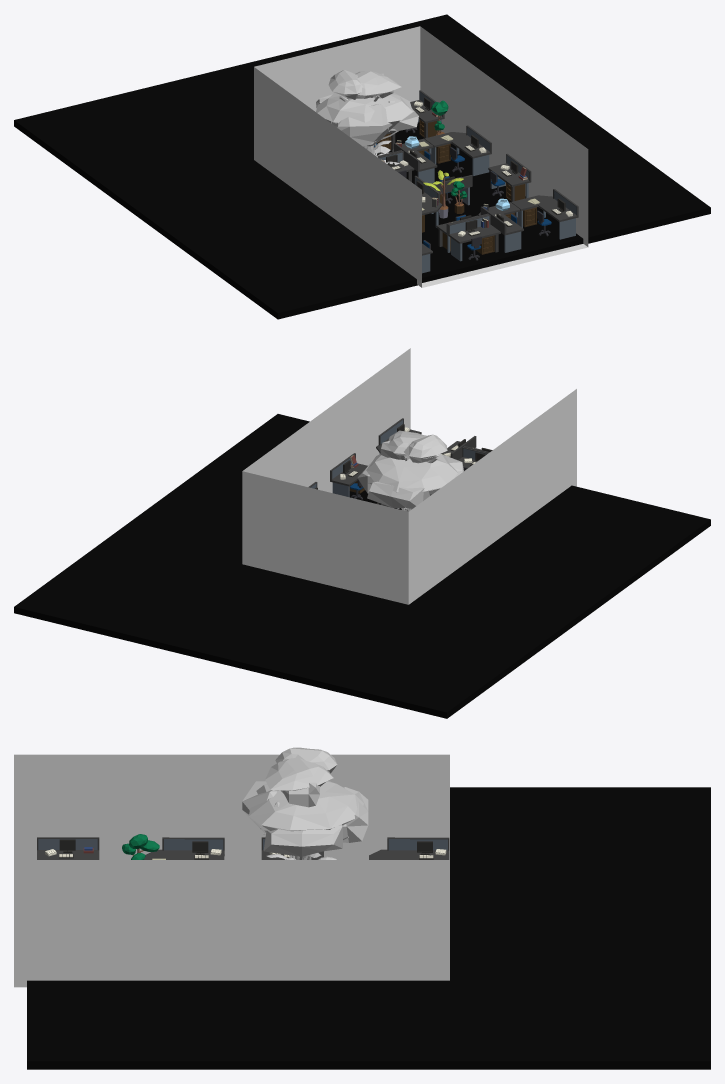
Rendered from office_eg.fbx.
3 renders of one model, top to bottom at view 1: azimuth 30°, elevation 25°; view 2: azimuth 150°, elevation 25°; view 3: azimuth 270°, elevation 25°, orthographic. The views are drawn at different scales.
Visible parts, largest first — view 1: Boden, Raum, Tree_Tropic_006, Tree_Tropic_007, desk.008, desk.011, desk.017, desk.018, Tree_Tropic_004, Tree_Tropic_005, desk.001, desk.010 (+2 smaller); view 2: Boden, Raum, Tree_Tropic_006, Tree_Tropic_007, Tree_Tropic_004, desk.010, Tree_Tropic_005; view 3: Boden, Raum, Tree_Tropic_006, Tree_Tropic_007, Tree_Tropic_005, Tree_Tropic_004, desk.004, desk.015, desk.019, Tree_Tropic_020.
Boxes of the visible parts, left/top/right/bottom form: Boden: left=14, top=14, right=710, bottom=319; Raum: left=254, top=26, right=588, bottom=287; Tree_Tropic_006: left=316, top=92, right=412, bottom=131; Tree_Tropic_007: left=316, top=94, right=418, bottom=146; desk.008: left=424, top=125, right=491, bottom=175; desk.011: left=511, top=189, right=578, bottom=239; desk.017: left=448, top=214, right=500, bottom=261; desk.018: left=478, top=202, right=523, bottom=252; Tree_Tropic_004: left=328, top=70, right=394, bottom=151; Tree_Tropic_005: left=330, top=71, right=401, bottom=101; desk.001: left=391, top=138, right=437, bottom=183; desk.010: left=488, top=153, right=531, bottom=201; Boden: left=14, top=414, right=710, bottom=718; Raum: left=242, top=348, right=576, bottom=604; Tree_Tropic_006: left=366, top=454, right=457, bottom=492; Tree_Tropic_007: left=357, top=454, right=463, bottom=510; Tree_Tropic_004: left=380, top=434, right=447, bottom=511; desk.010: left=330, top=453, right=367, bottom=497; Tree_Tropic_005: left=387, top=430, right=439, bottom=510; Boden: left=27, top=787, right=710, bottom=1069; Raum: left=14, top=754, right=449, bottom=987; Tree_Tropic_006: left=248, top=781, right=363, bottom=834; Tree_Tropic_007: left=242, top=781, right=368, bottom=857; Tree_Tropic_005: left=265, top=758, right=333, bottom=859; Tree_Tropic_004: left=274, top=747, right=337, bottom=859; desk.004: left=369, top=837, right=449, bottom=859; desk.015: left=144, top=837, right=224, bottom=859; desk.019: left=37, top=837, right=99, bottom=859; Tree_Tropic_020: left=122, top=834, right=159, bottom=859.
Size of the model in its own units: 4487 by 1212 by 4826.
